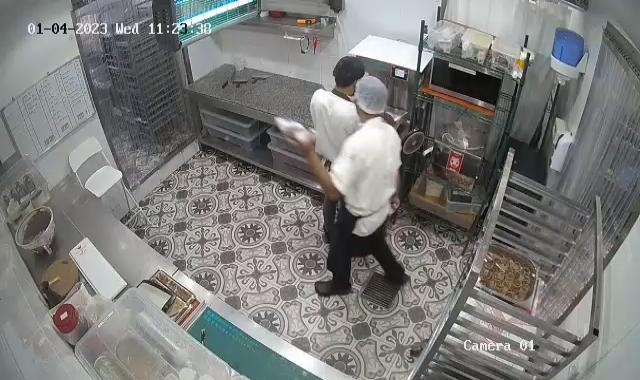hairnet: (351, 77, 388, 114)
no_hairnet: (331, 55, 364, 85)
